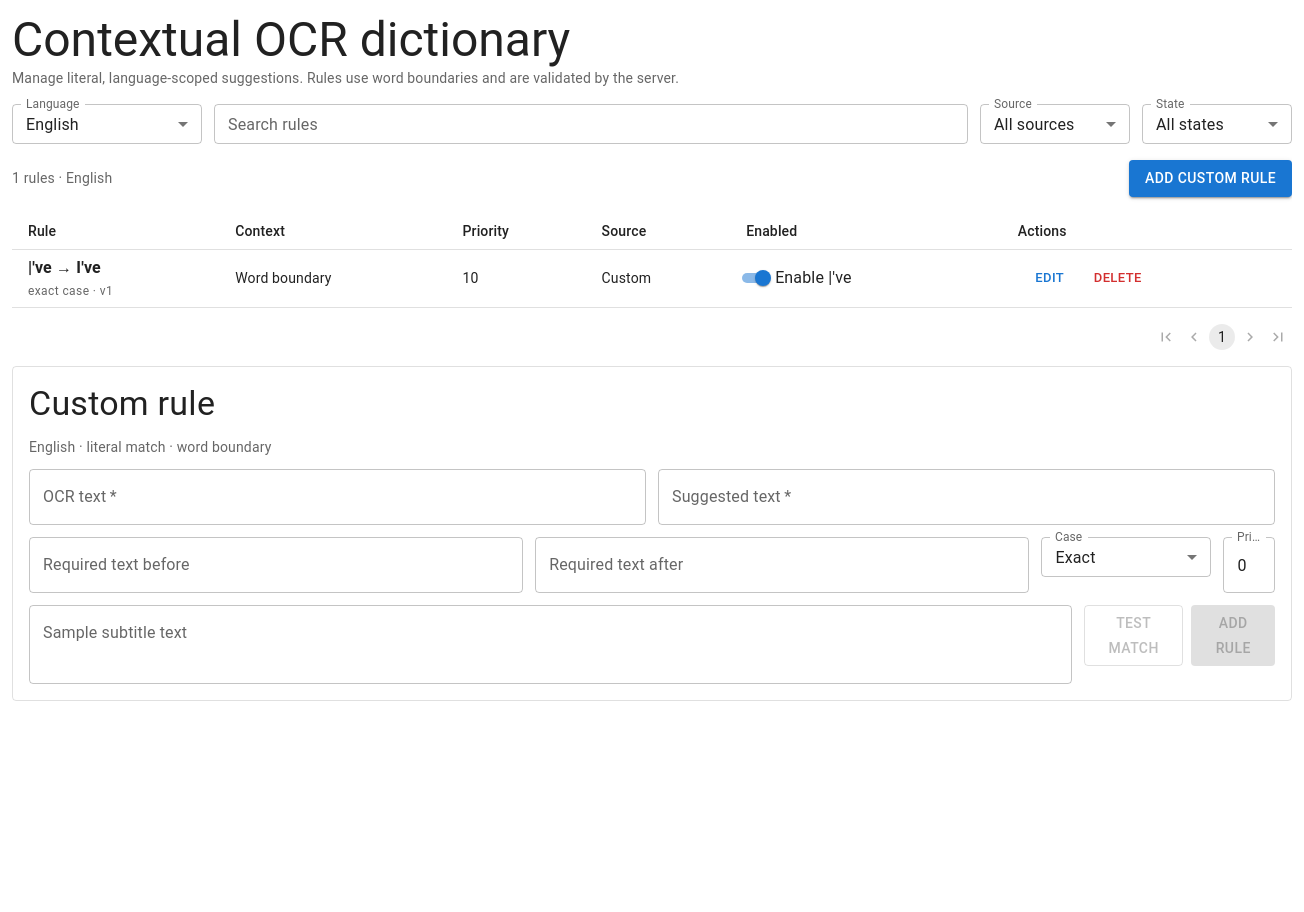
it: OCRDictionaryManager › edits and deletes custom rules
Expected: the text "|'ve → I've" is shown, [28,258,101,276]
Click the button "Edit": (1050, 278) [1018,263,1082,294]
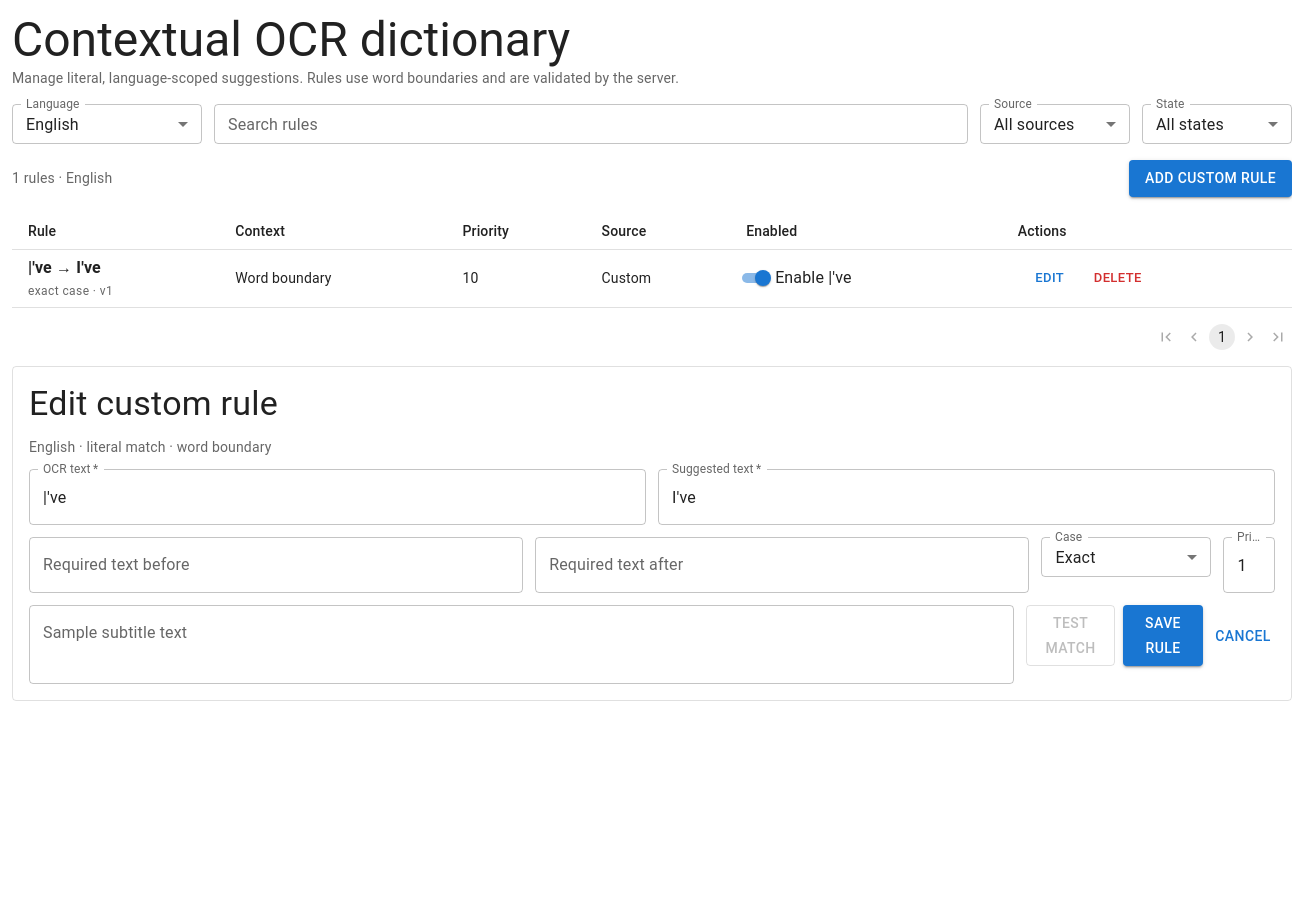
Replace the text in the field labelled "Suggested text" with "I've arrived": (966, 497) [658,469,1275,525]
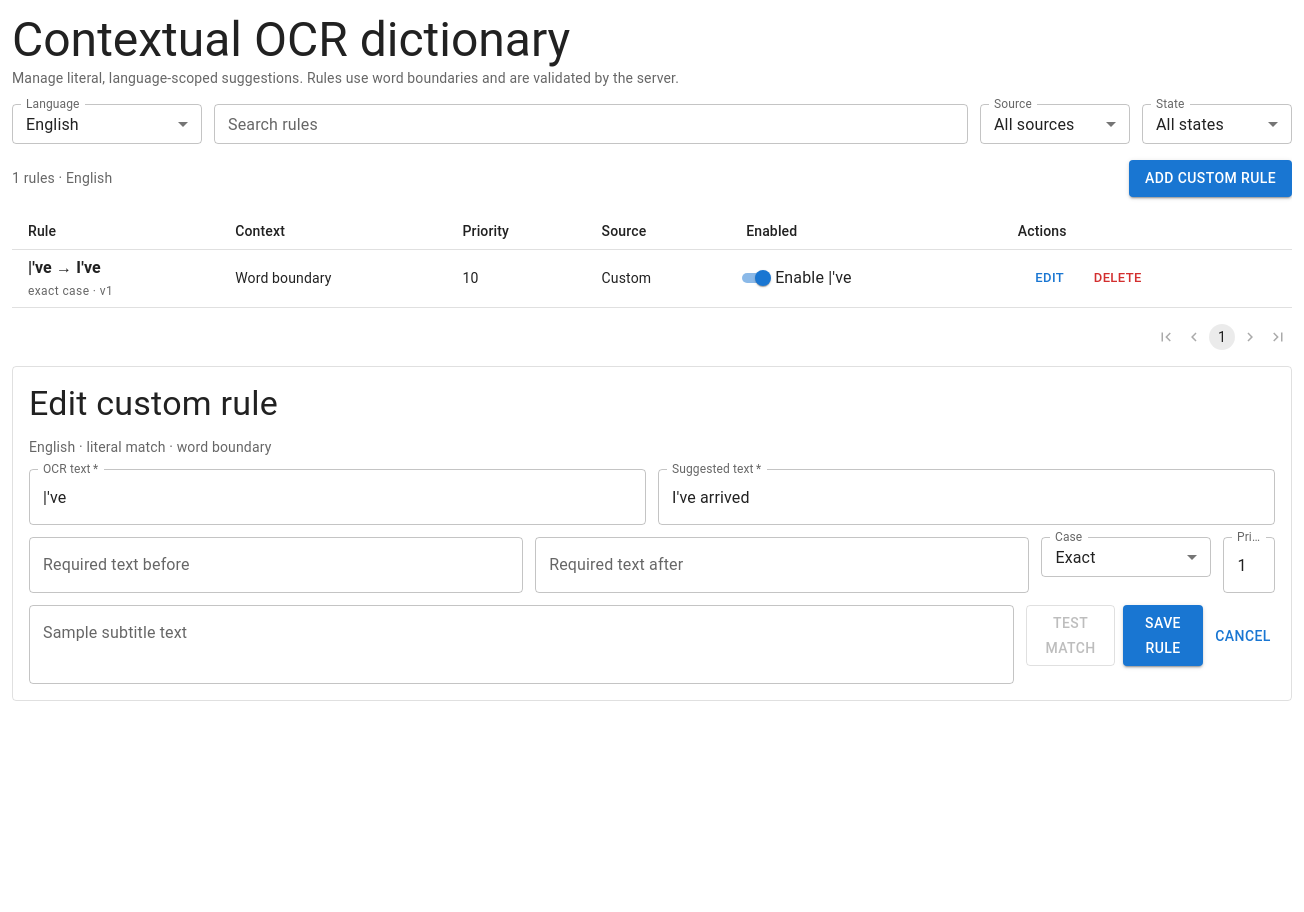
Click the button "Save rule": (1163, 636) [1123,605,1203,666]
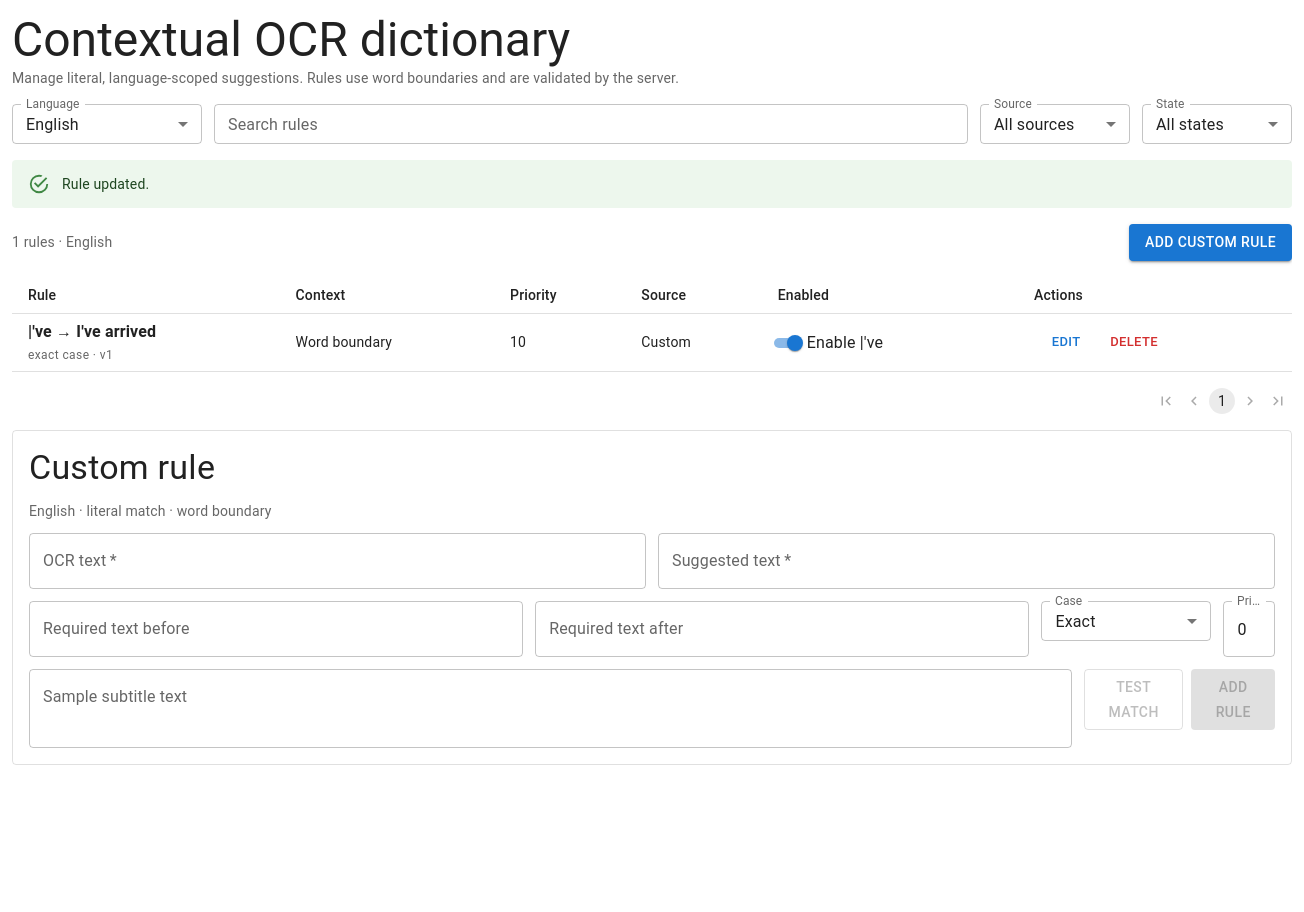
Expected: the text "|'ve → I've arrived" is shown, [28,322,156,340]
Click the button "Delete": (1134, 342) [1102,327,1166,358]
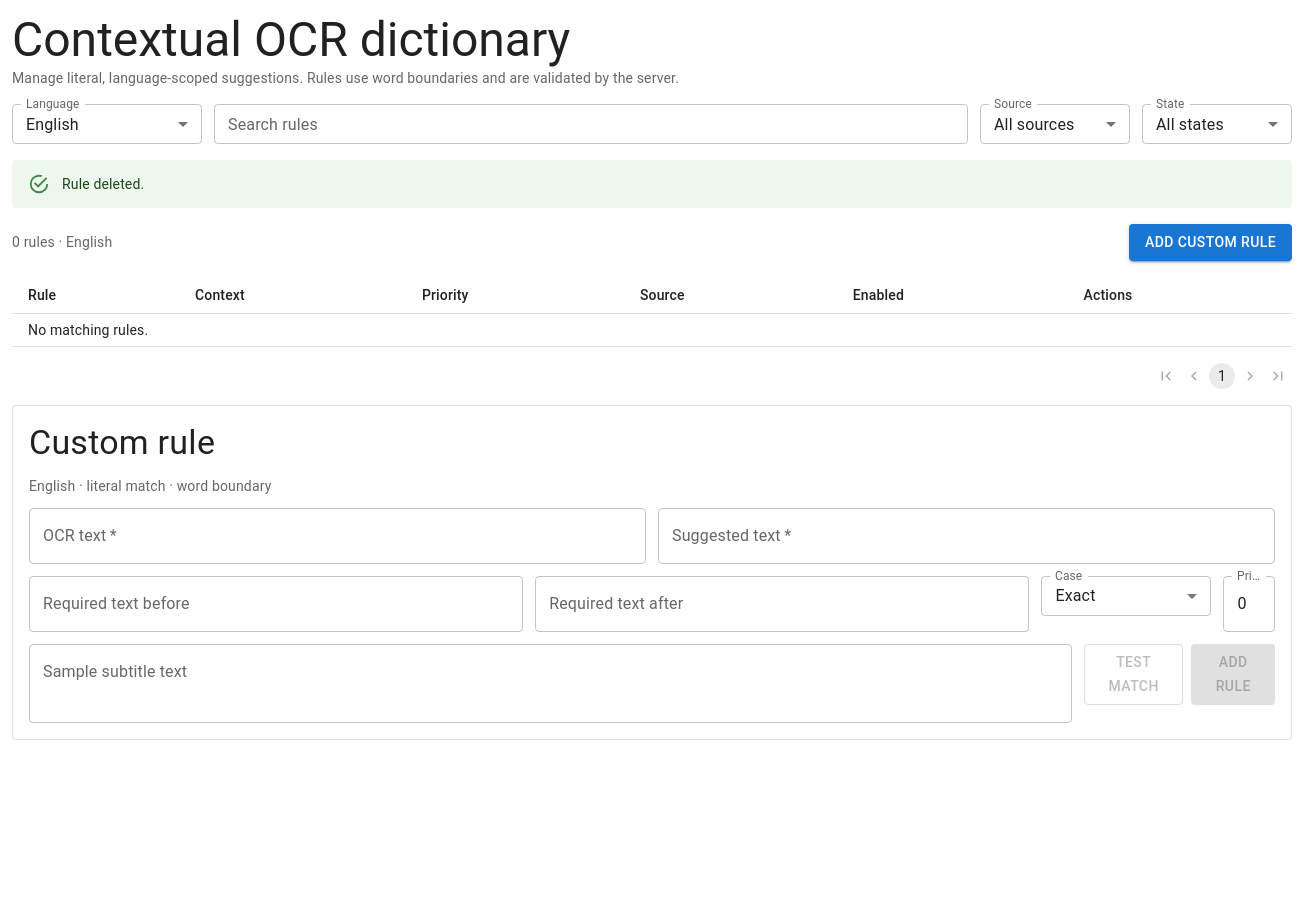
Now the text "No matching rules." is shown, box [12,313,1292,346]
